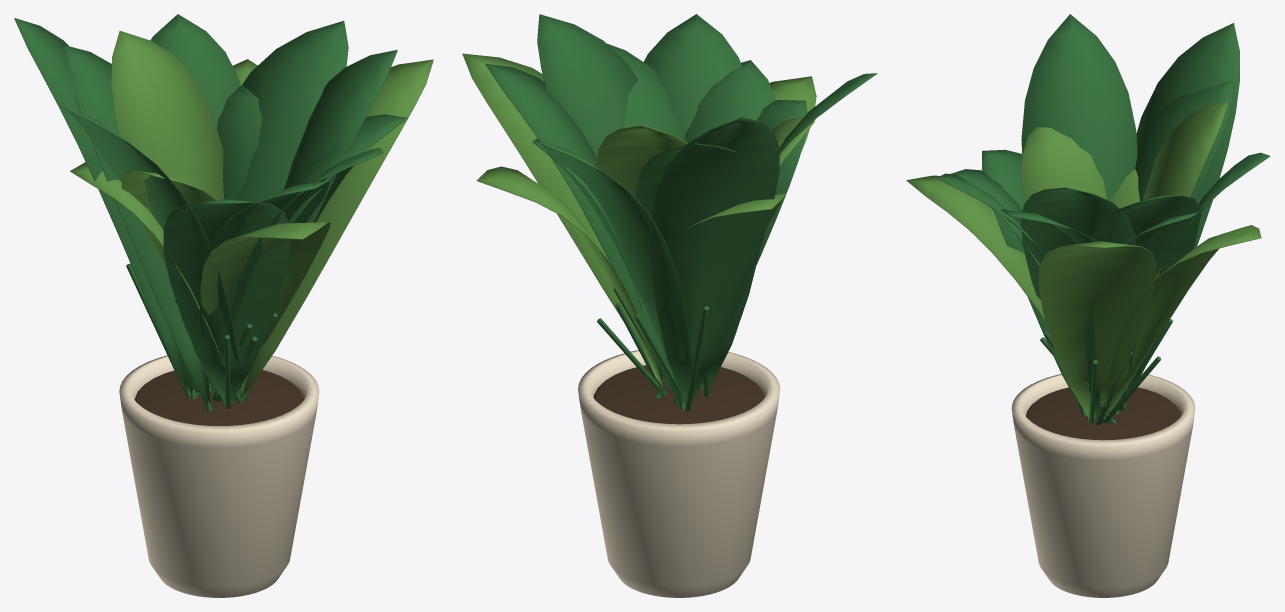
File: PottedPlant.fbx
3 views of the same model, side by side, from view 1: azimuth 30°, elevation 25°; view 2: azimuth 150°, elevation 25°; view 3: azimuth 270°, elevation 25° (orthographic). The views are drawn at different scales.
Parts seen in each view (by area): view 1: PottedPlant.001; view 2: PottedPlant.001; view 3: PottedPlant.001.
Part boxes in pixels (bbox=[...]): PottedPlant.001: bbox=[14, 14, 433, 597]; PottedPlant.001: bbox=[462, 14, 877, 597]; PottedPlant.001: bbox=[906, 14, 1270, 597].
Size of the model in its own units: 0.6701 by 0.8732 by 0.5863.
